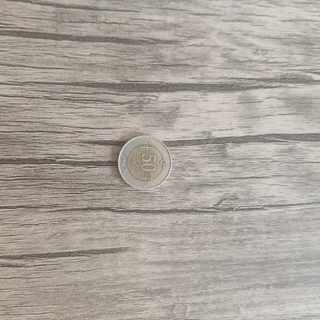50KURUS: (116, 133, 172, 191)
